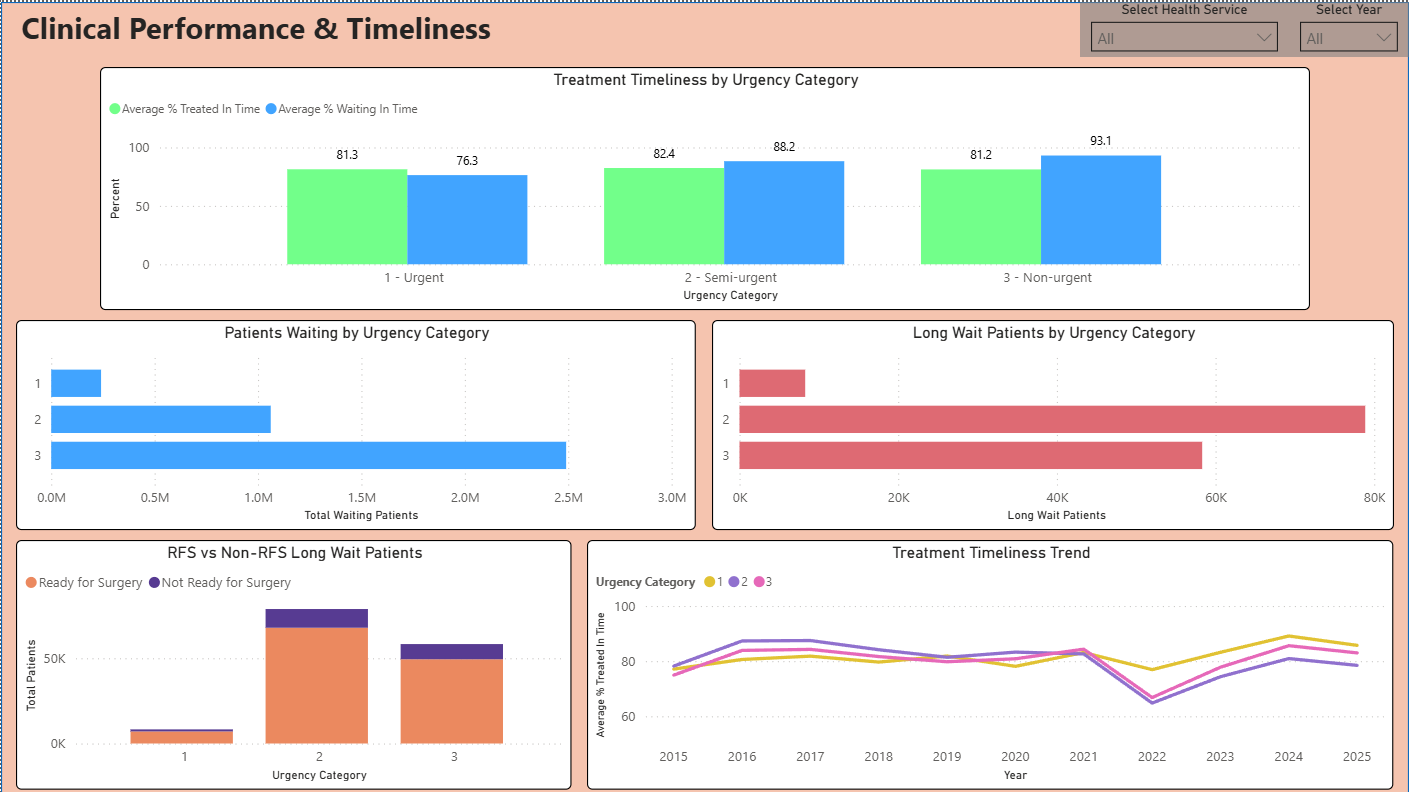

Layout of this report page (visuals, bound fields, positions):
{"tool":"powerbi","page":{"name":"Clinical Performance & Timeliness","canvas":[1280,720],"ordinal":2},"visuals":[{"type":"shape","box":[0,0,1280,720],"z":0},{"type":"clusteredColumnChart","title":"Treatment Timeliness by Urgency Category","fields":{"Y":["Avg(elective_surgery_category.pct_treated_in_time)","Avg(elective_surgery_category.pct_waiting_in_time_RFS)"],"Category":["elective_surgery_category.Urgency Category"]},"box":[90,59,1100,221],"z":1000},{"type":"clusteredBarChart","title":"Patients Waiting by Urgency Category","fields":{"Category":["elective_surgery_category.category"],"Y":["Sum(elective_surgery_category.vol_wait)"]},"box":[14,289,618,191],"z":2000},{"type":"clusteredBarChart","title":"Long Wait Patients by Urgency Category","fields":{"Category":["elective_surgery_category.category"],"Y":["Sum(elective_surgery_category.vol_long_wait)"]},"box":[646,289,620,191],"z":3000},{"type":"columnChart","title":"RFS vs Non-RFS Long Wait Patients","fields":{"Category":["elective_surgery_category.category"],"Y":["Sum(elective_surgery_category.vol_long_wait_RFS)","Sum(elective_surgery_category.vol_long_wait_NRFS)"]},"box":[14,489,505,227],"z":4000},{"type":"lineChart","title":"Treatment Timeliness Trend","fields":{"Category":["elective_surgery_category.date_year"],"Series":["elective_surgery_category.category"],"Y":["Avg(elective_surgery_category.pct_treated_in_time)"]},"box":[533,489,733,227],"z":5000},{"type":"textbox","box":[14,0,480,59],"z":6000},{"type":"slicer","title":"Select Year","fields":{"Values":["elective_surgery_category.date_year"]},"box":[1171,0,109,50],"z":7000},{"type":"slicer","title":"Select Health Service","fields":{"Values":["elective_surgery_category.health_service"]},"box":[981,0,190,50],"z":8000}]}

Visuals, with their boxes in screenshot pixels (x1, y1, x2, y2), scaled from the page's 1280x720 canvas onto the 1409x792 screenshot:
shape: bbox=[0, 0, 1408, 791]
"Treatment Timeliness by Urgency Category" clusteredColumnChart: bbox=[99, 65, 1310, 308]
"Patients Waiting by Urgency Category" clusteredBarChart: bbox=[15, 318, 696, 528]
"Long Wait Patients by Urgency Category" clusteredBarChart: bbox=[711, 318, 1394, 528]
"RFS vs Non-RFS Long Wait Patients" columnChart: bbox=[15, 538, 571, 788]
"Treatment Timeliness Trend" lineChart: bbox=[587, 538, 1394, 788]
textbox: bbox=[15, 0, 544, 65]
"Select Year" slicer: bbox=[1289, 0, 1408, 55]
"Select Health Service" slicer: bbox=[1080, 0, 1289, 55]
